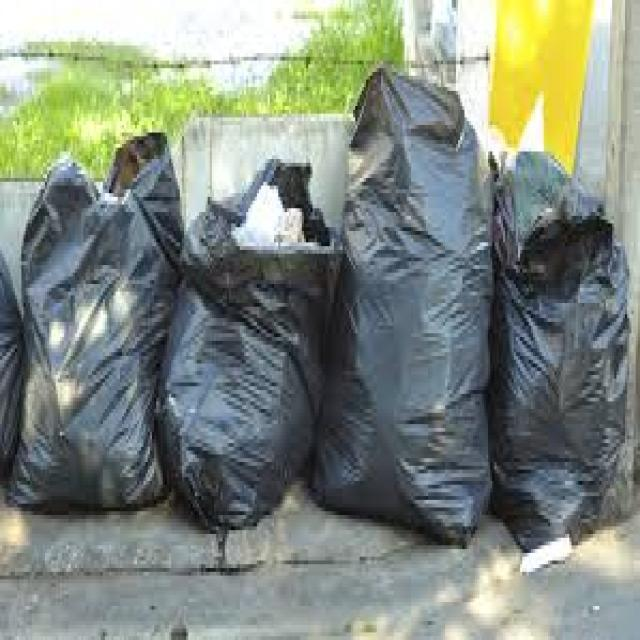Trashbag: (311, 55, 503, 547), (0, 129, 175, 520), (162, 173, 334, 529), (495, 148, 640, 553)
